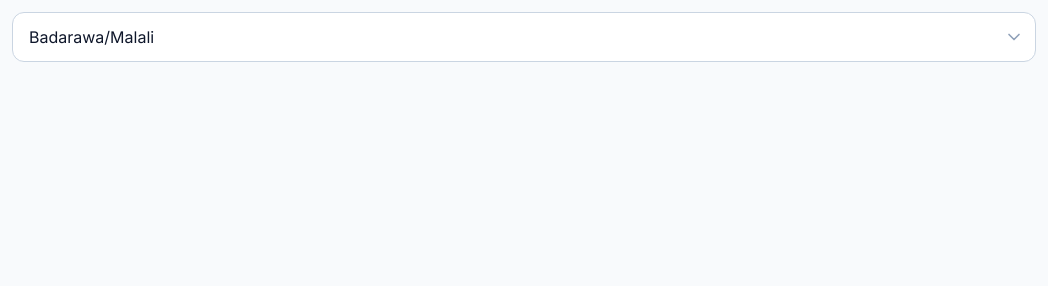
Test: #823 — the list is drawn by this application, not by the browser › AND OPENING WITH A VALUE ALREADY SET SHOWS THE WHOLE LIST
The width and height of the screenshot is (1048, 286).
Focus the dropdown at x=524, y=37, box [12,12,1036,62]
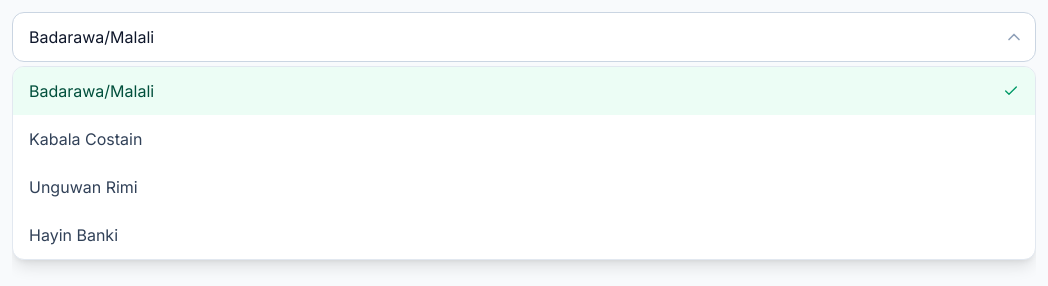
Now the number of options is 4, box [13,67,1035,115]; [29,129,142,149]; [29,177,138,197]; [29,225,118,245]
Now the option "Kabala Costain" is shown, box [29,129,142,149]
